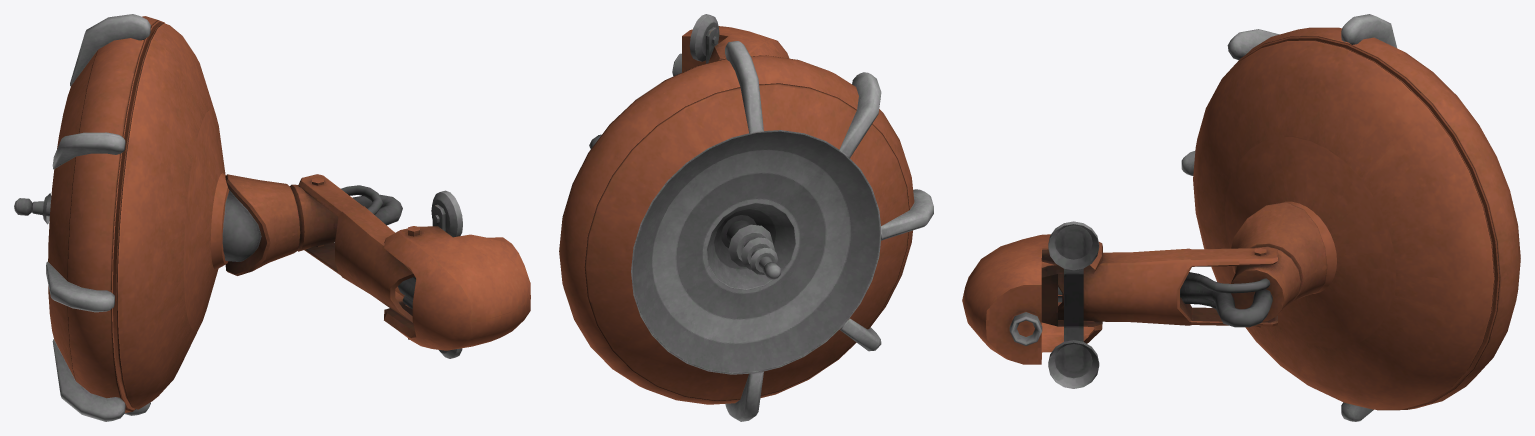
File: nt_2020_car_wash_dish_LOD0.obj
The picture shows the model from 3 angles, left to right: view 1: azimuth 30°, elevation 25°; view 2: azimuth 150°, elevation 25°; view 3: azimuth 270°, elevation 25°; orthographic projection. The views are drawn at different scales.
Visible parts, largest first — view 1: mtl_nt_2020_car_wash_dish; view 2: mtl_nt_2020_car_wash_dish; view 3: mtl_nt_2020_car_wash_dish.
Part boxes in pixels (<box>): mtl_nt_2020_car_wash_dish: <box>14,14,530,421</box>; mtl_nt_2020_car_wash_dish: <box>559,14,933,421</box>; mtl_nt_2020_car_wash_dish: <box>962,14,1520,421</box>.
Bounding box in the file's own units: 94.12 × 97.49 × 123.
